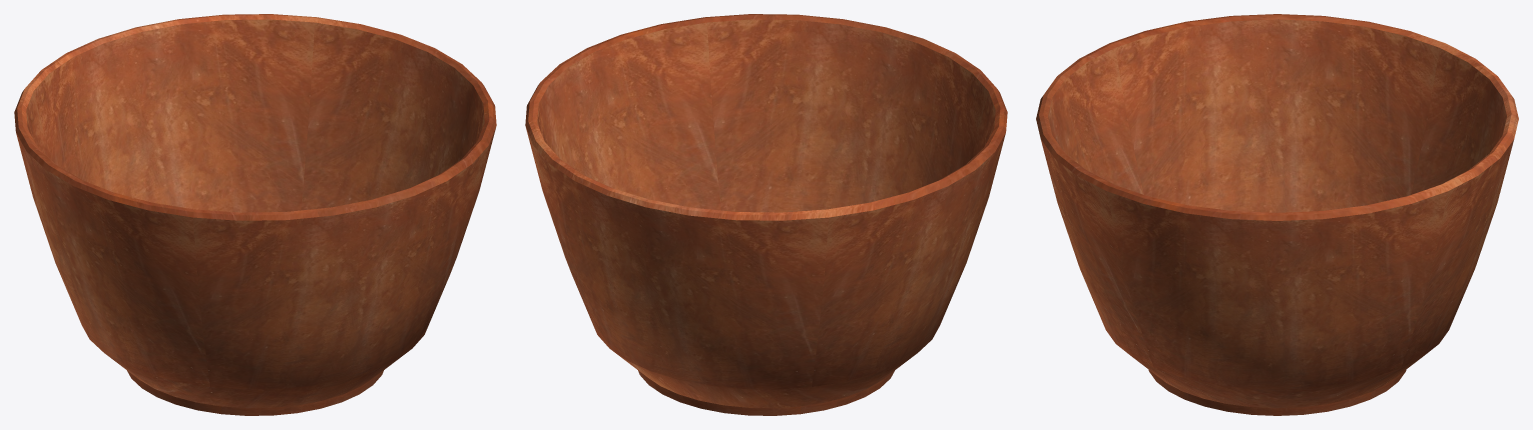
Rendered from Bowl.FBX.
3 views of the same model, side by side, from view 1: azimuth 30°, elevation 25°; view 2: azimuth 150°, elevation 25°; view 3: azimuth 270°, elevation 25° (orthographic).
Visible parts, largest first — view 1: bowl; view 2: bowl; view 3: bowl.
Part boxes in pixels (x1,y1,x2,y2): bowl: (14,14,496,415); bowl: (525,14,1007,415); bowl: (1036,14,1518,415).
Bounding box in the file's own units: 26.13 × 14.73 × 26.13.
Materials: 1 (1 with a texture image).
